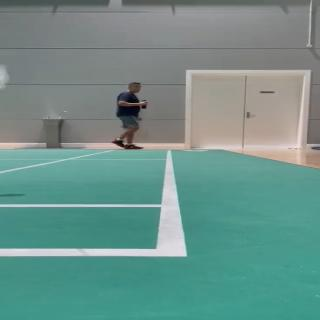Shuttle: (0, 64, 9, 89)
